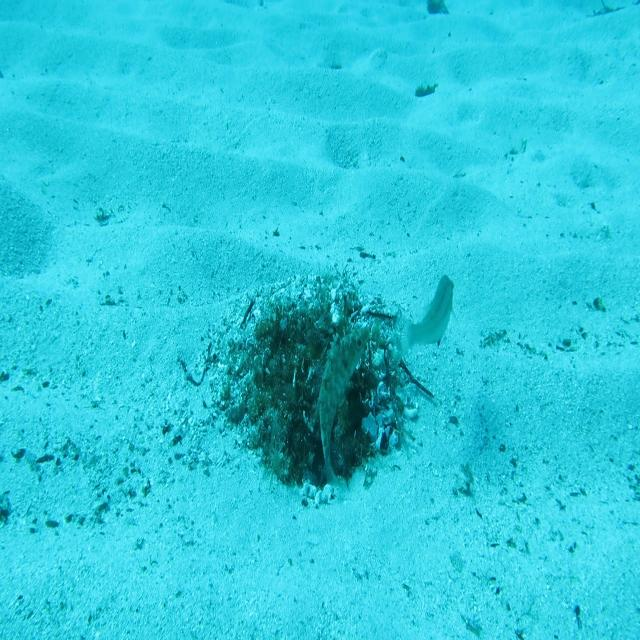LF: (312, 321, 373, 492)
core_nest: (283, 324, 329, 355)
female: (390, 272, 460, 368)
nest: (204, 256, 424, 515)
vegetation: (415, 78, 438, 100)
